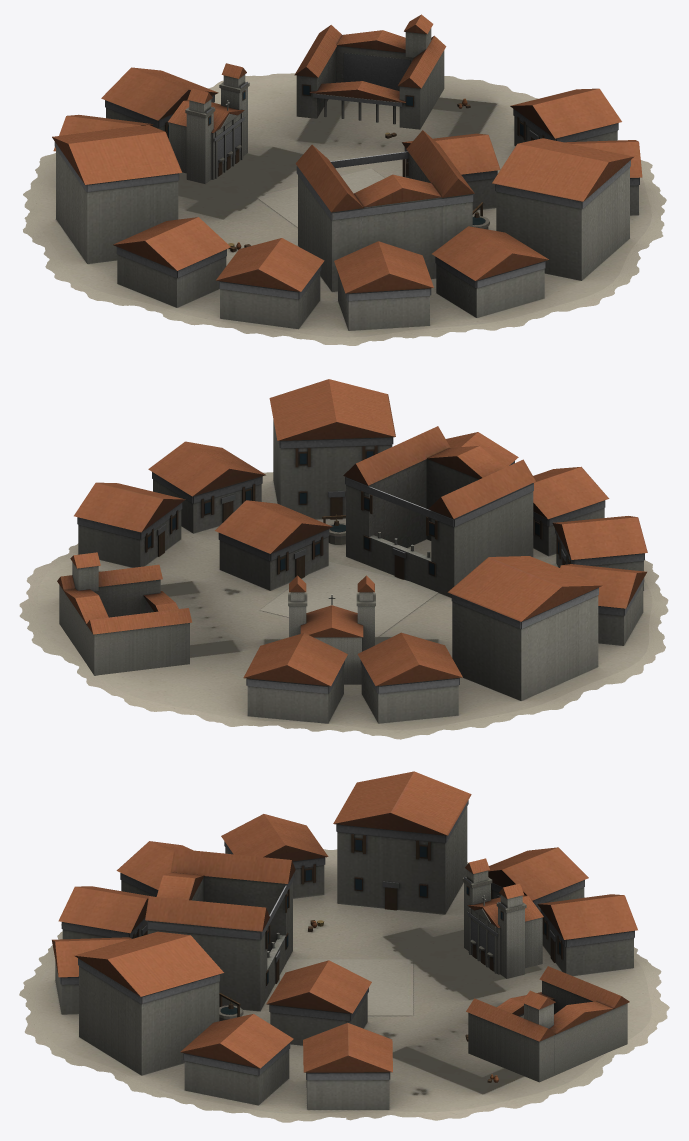
File: gunpowder-town-medium-a-americas.glb
3 views of the same model, one above another, from view 1: azimuth 30°, elevation 25°; view 2: azimuth 150°, elevation 25°; view 3: azimuth 270°, elevation 25° (orthographic).
Parts seen in each view (by area): view 1: LOD0; view 2: LOD0; view 3: LOD0.
Boxes of the visible parts, box(x1,y1,x2,y2) form: LOD0: box(23, 14, 666, 345); LOD0: box(19, 379, 668, 739); LOD0: box(19, 771, 669, 1122).
Size of what is drawn, in the model's own units: 5.98 by 1 by 5.95.
3 materials, 3 textured.
